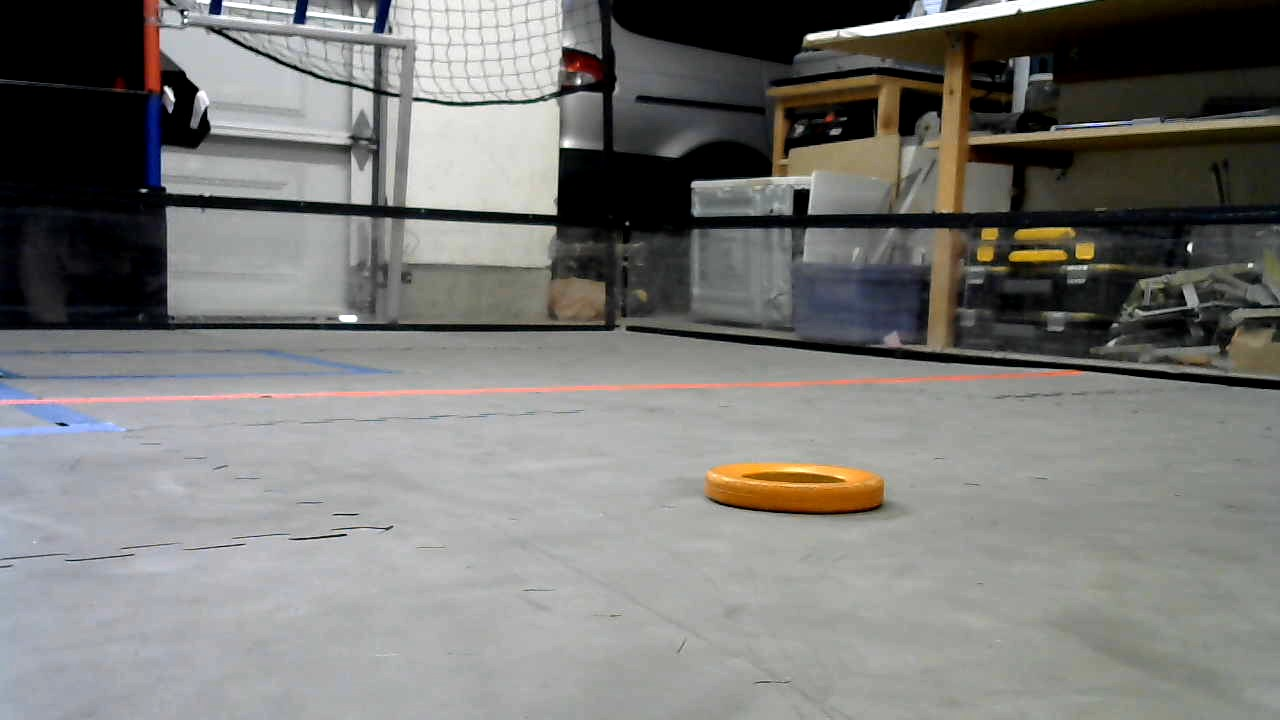OneStack: (704, 460, 886, 512)
